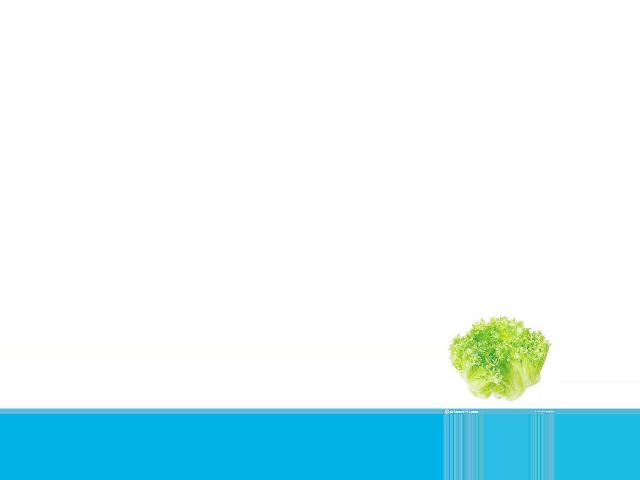lettuce: (448, 313, 547, 406)
